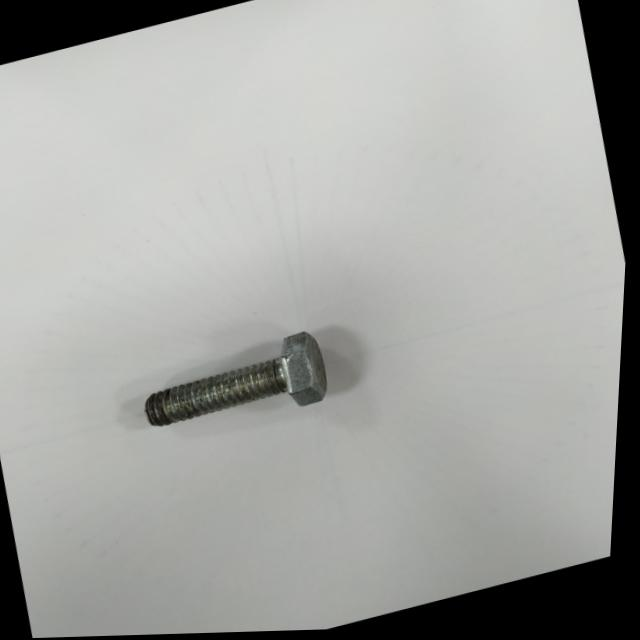Bolt: (149, 334, 331, 427)
